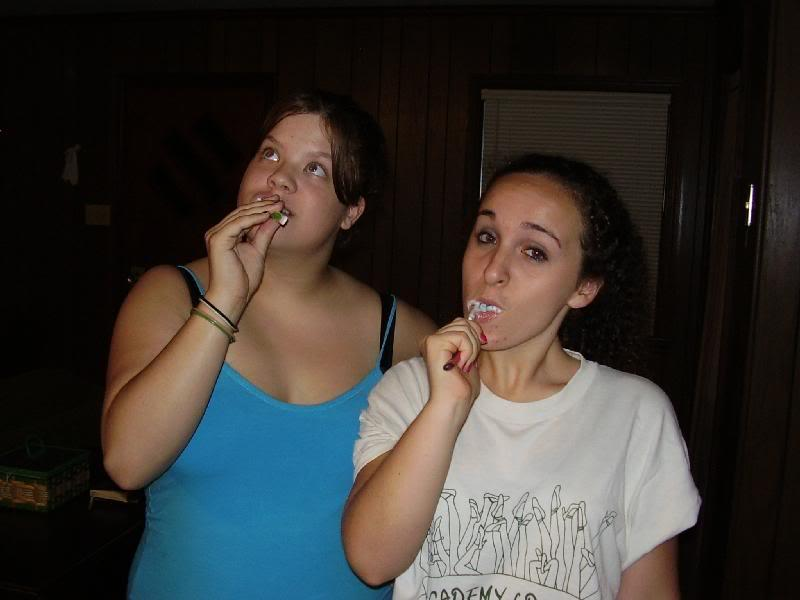person: (101, 96, 451, 600)
